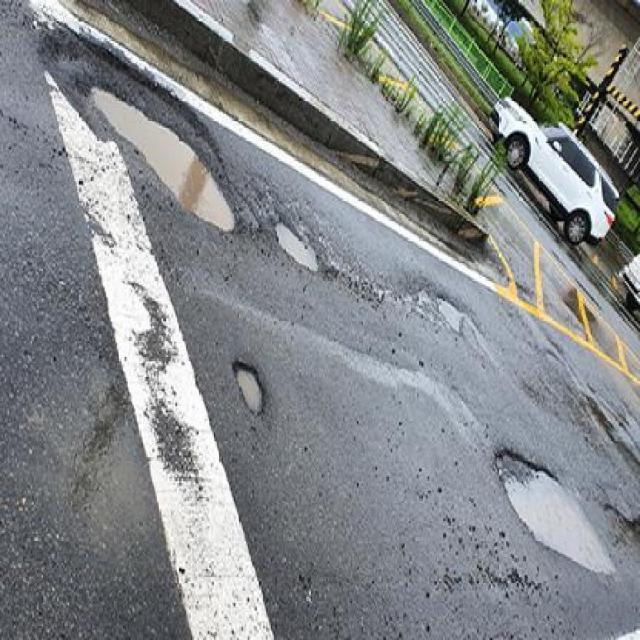pothole: (72, 69, 243, 243), (476, 442, 624, 575), (265, 210, 331, 283), (433, 287, 489, 350), (231, 351, 268, 419)
